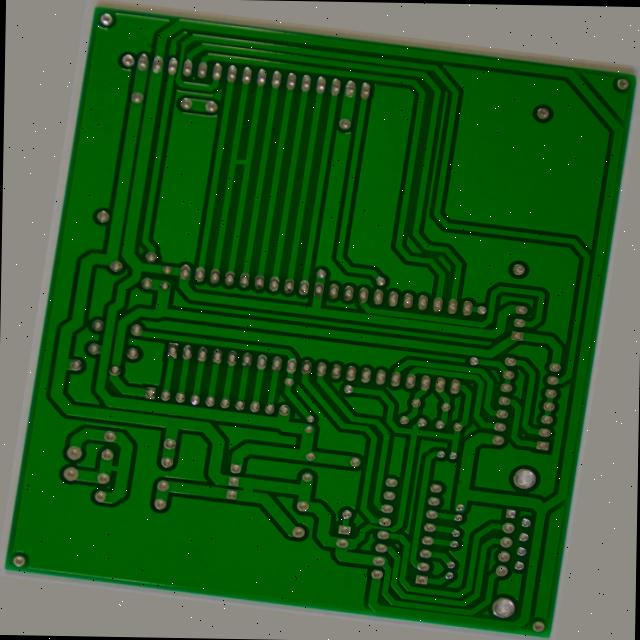short: (191, 145, 219, 167), (255, 502, 277, 522), (102, 494, 123, 514)
